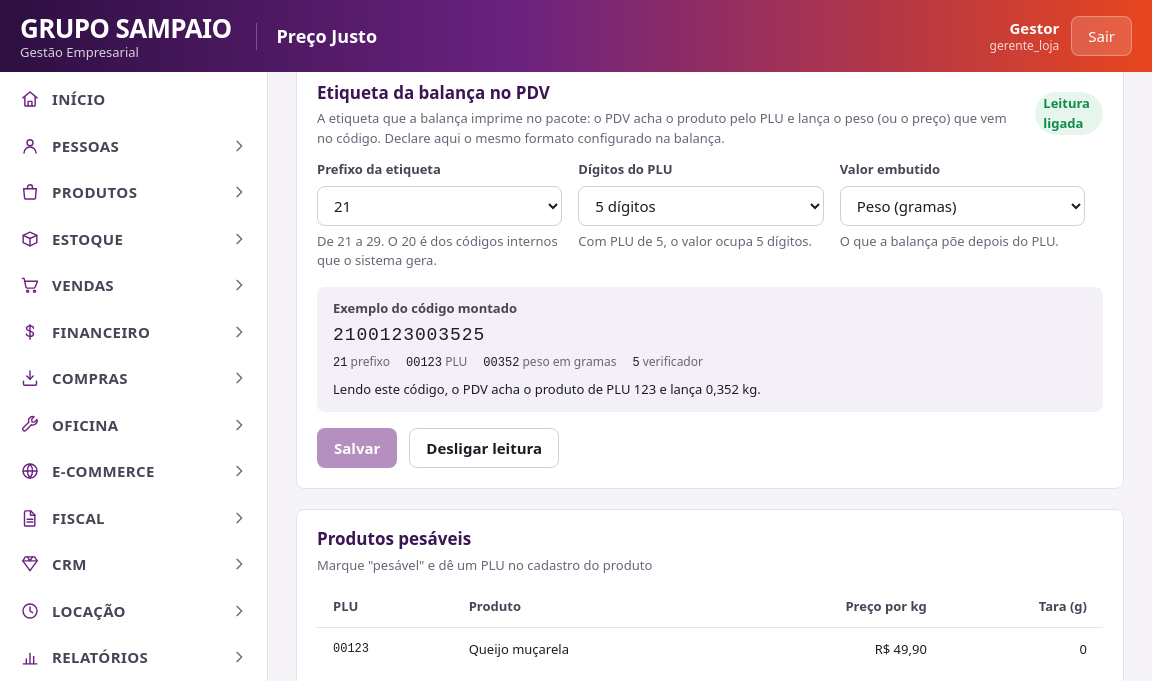
Test: quem cadastra produtos declara a etiqueta da balança › "Desligar leitura" manda { config: null } e o bloco volta a "desligada"
(page scrolled)
Expected: the text "Leitura ligada" is shown, 1035,92 -> 1103,135
Expected: the dropdown labelled "Prefixo da etiqueta" shows "21", 317,186 -> 562,226
Click the button "Desligar leitura".
click(484, 448)  # box 409,428 -> 559,468
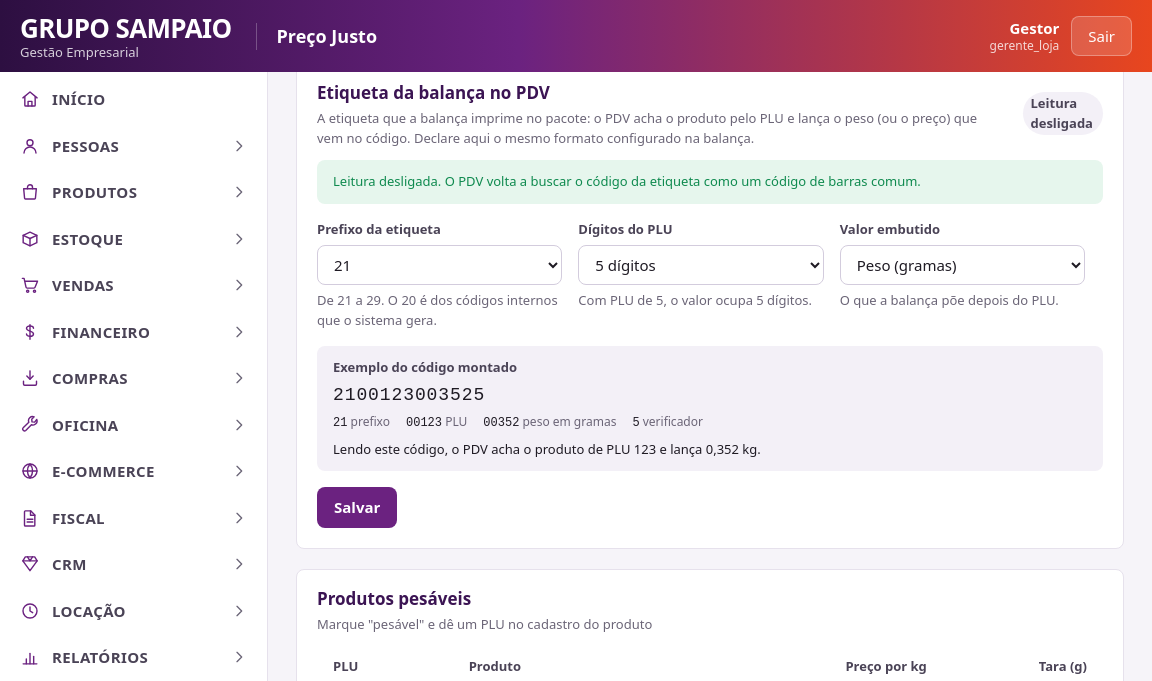
Expected: the text "Leitura desligada" is shown, 1022,92 -> 1103,135
Expected: the message shows "Leitura desligada", 333,172 -> 921,190
Expected: the button "Desligar leitura" is gone
